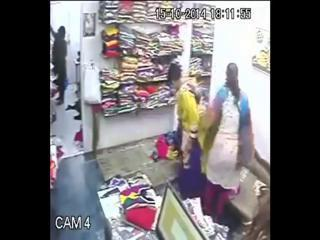shoplifting: (168, 62, 208, 198)
